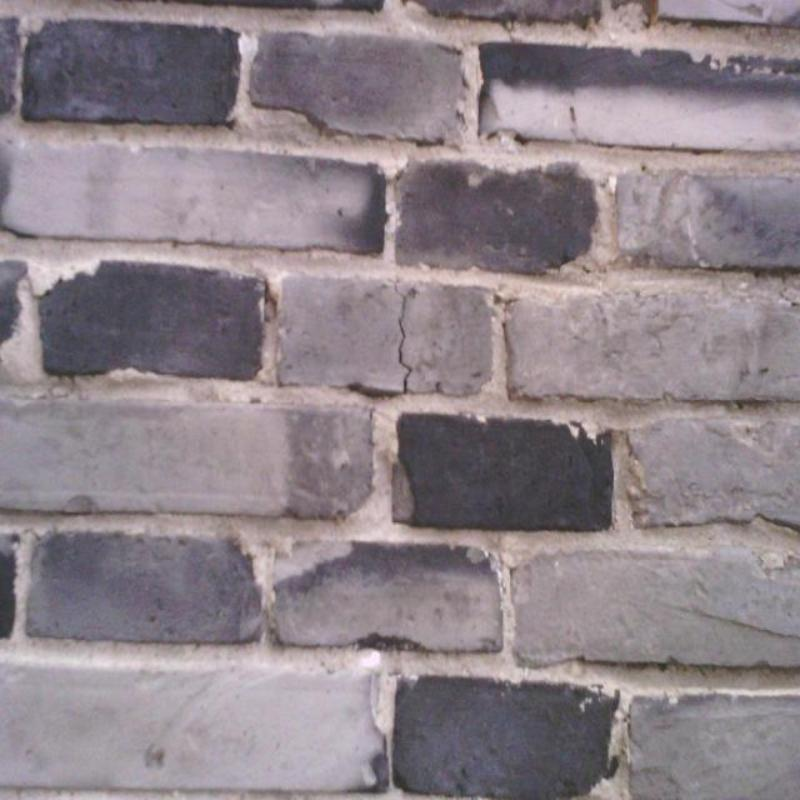crack: (395, 285, 413, 395)
